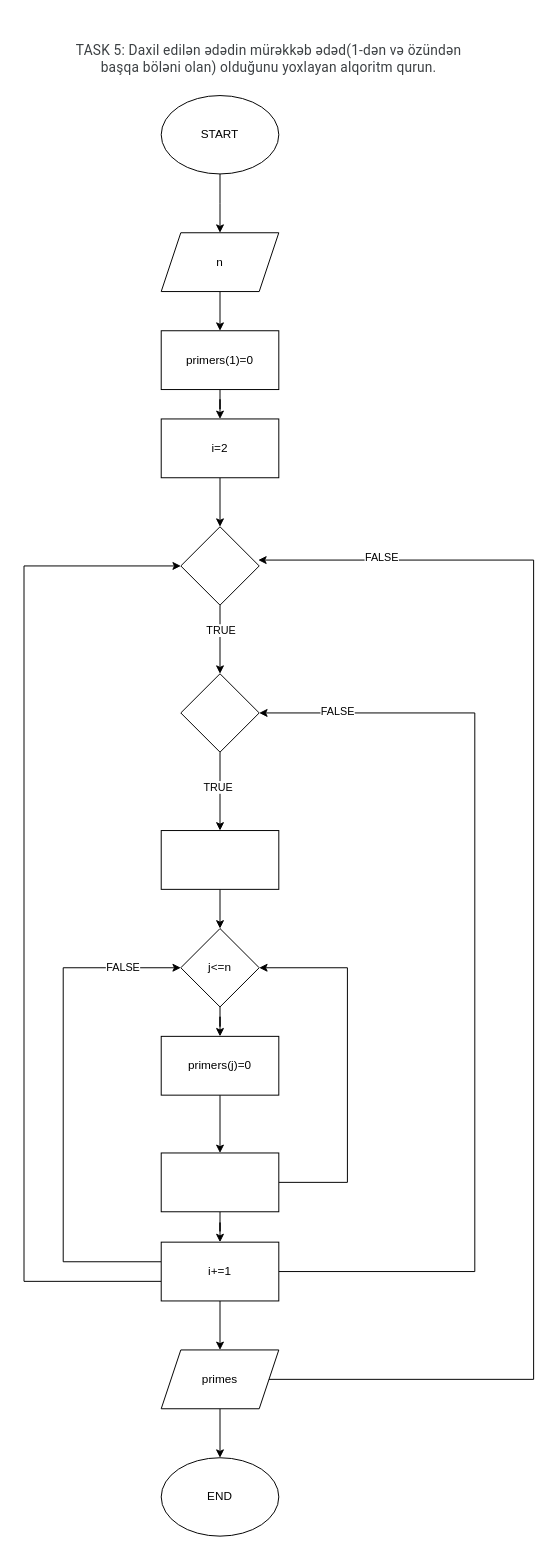
Some shapes in this 559 by 1553 pixel diagram are drawn without their labels. Here are the shapes that lost their labels. From the top down, the centre of each, then its label:
At (x=219, y=565): "i<n".
At (x=219, y=712): "primers(i)!=0".
At (x=219, y=859): "j=i*2".
At (x=219, y=1182): "j=j+i".
